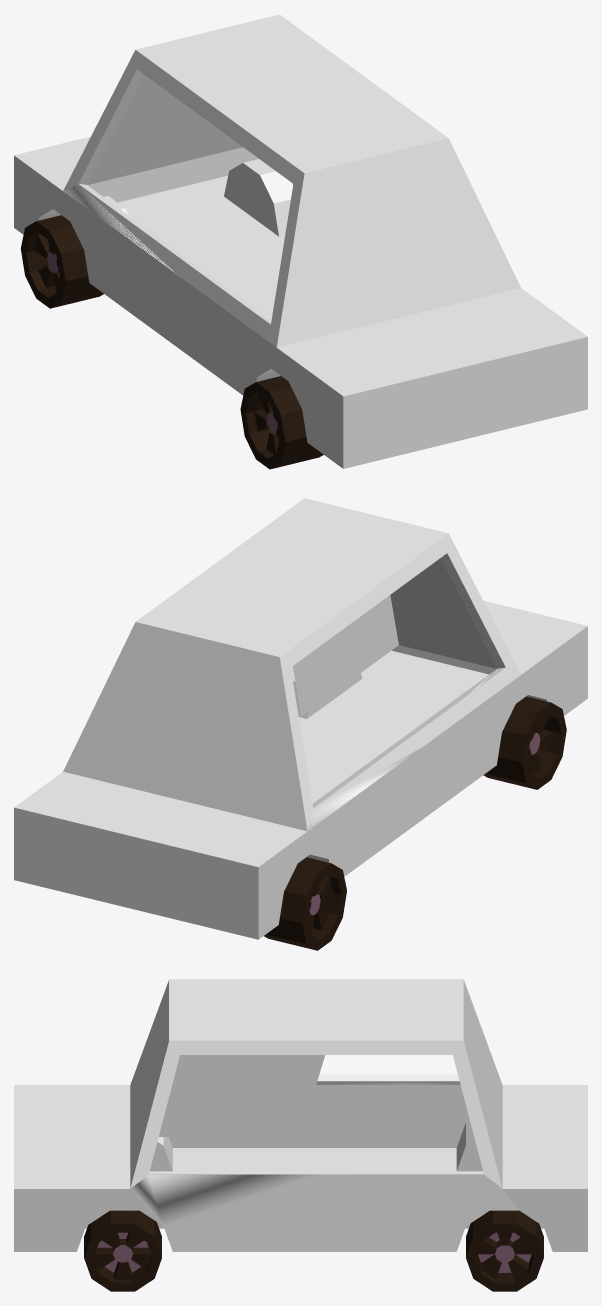
Rendered from simple-low-poly-car2.gltf.
The picture shows the model from 3 angles, top to bottom: view 1: azimuth 30°, elevation 25°; view 2: azimuth 150°, elevation 25°; view 3: azimuth 270°, elevation 25°; orthographic projection. The views are drawn at different scales.
Parts seen in each view (by area): view 1: chassis-body, tire, tire2; view 2: chassis-body, tire2, tire; view 3: chassis-body, tire4, tire3.
Boxes of the visible parts, x1,y1,x2,y2 form: chassis-body: (14, 14, 587, 468); tire: (20, 215, 103, 308); tire2: (240, 376, 323, 469); chassis-body: (14, 498, 587, 939); tire2: (483, 696, 566, 789); tire: (264, 857, 346, 950); chassis-body: (14, 979, 587, 1251); tire4: (466, 1210, 543, 1291); tire3: (84, 1210, 161, 1291).
Bounding box in the file's own units: 2.23 × 1.93 × 4.53.
Materials: 1 (1 with a texture image).
